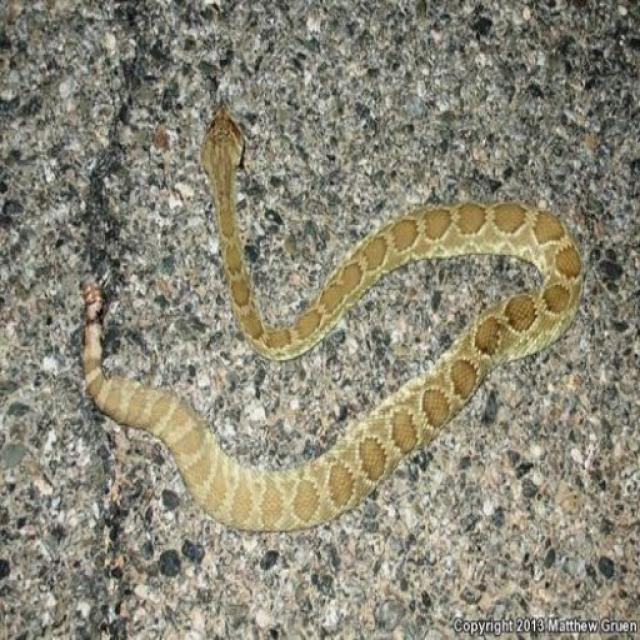snake: (66, 93, 587, 540)
